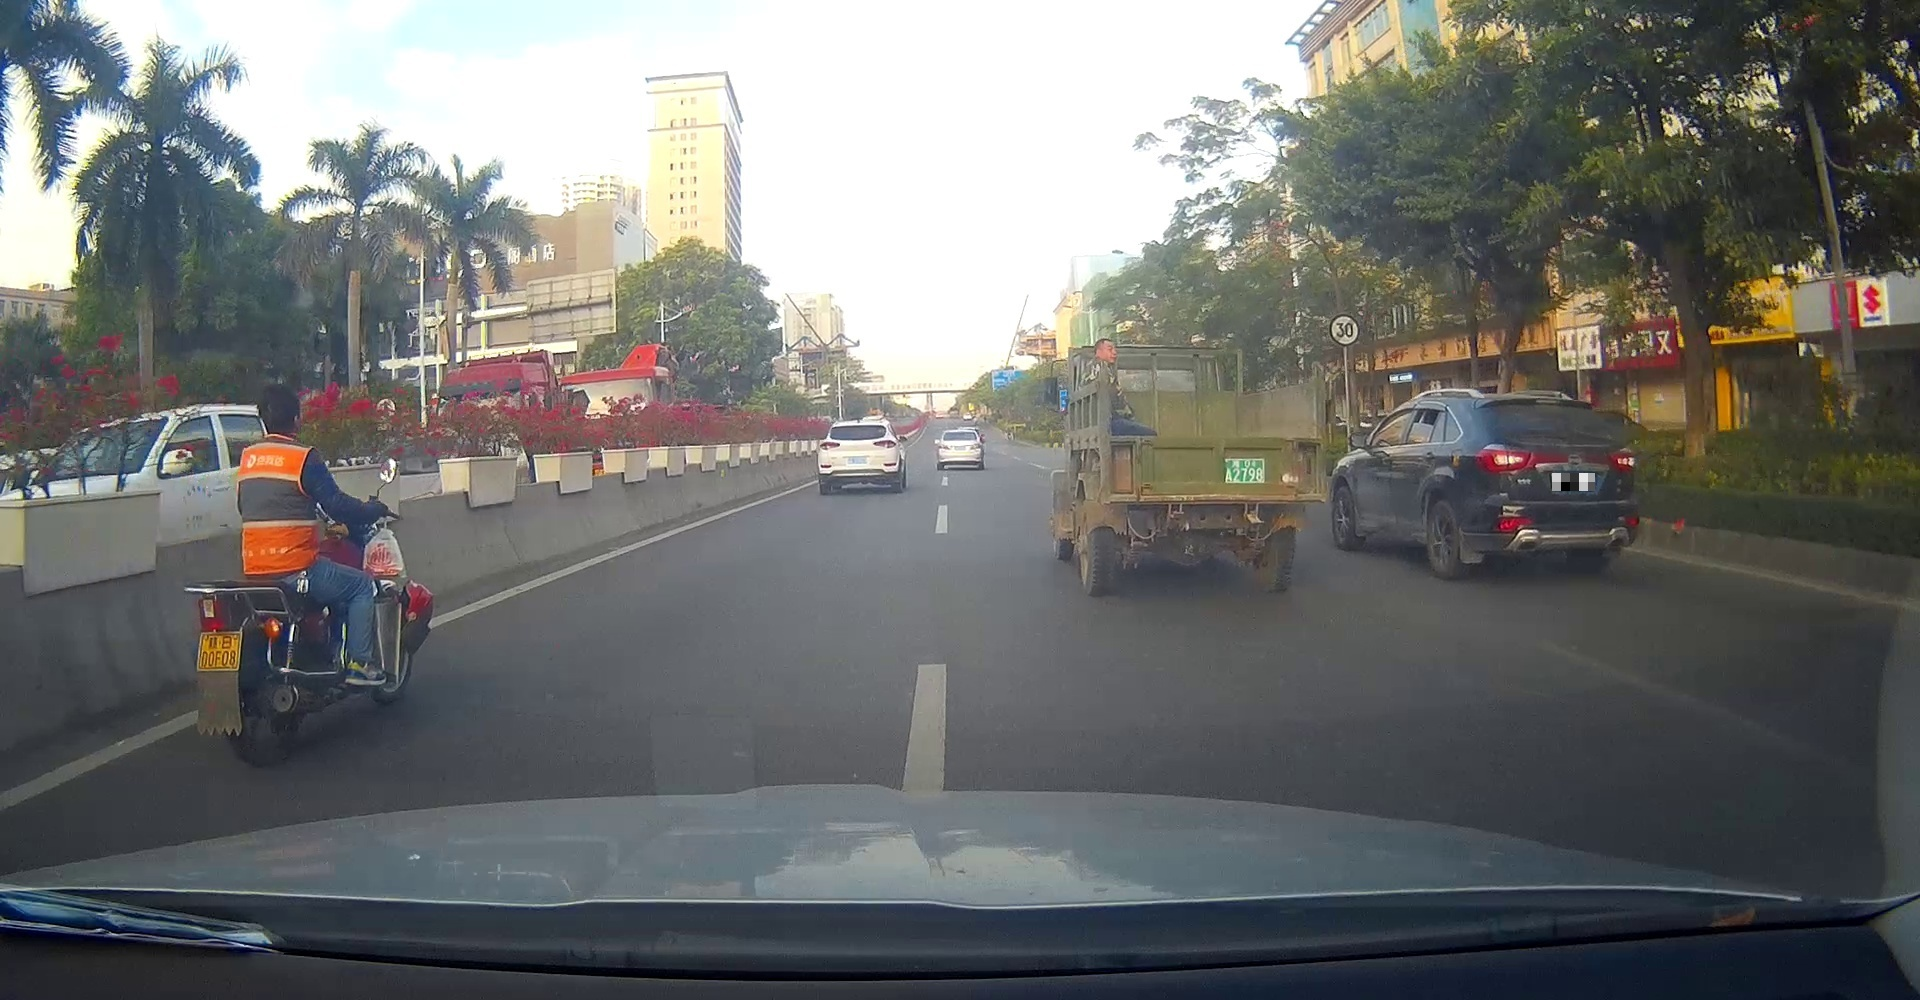L_light: (1476, 443, 1530, 471), (820, 442, 841, 449), (938, 444, 950, 451)
R_light: (1608, 449, 1636, 471), (872, 440, 897, 449), (970, 443, 982, 449)
T_light: (1533, 405, 1558, 409), (851, 425, 865, 429), (956, 431, 965, 434)
day-no: (1473, 393, 1639, 577), (817, 420, 900, 492), (937, 430, 984, 470)
plate_1: (1552, 473, 1595, 491)
